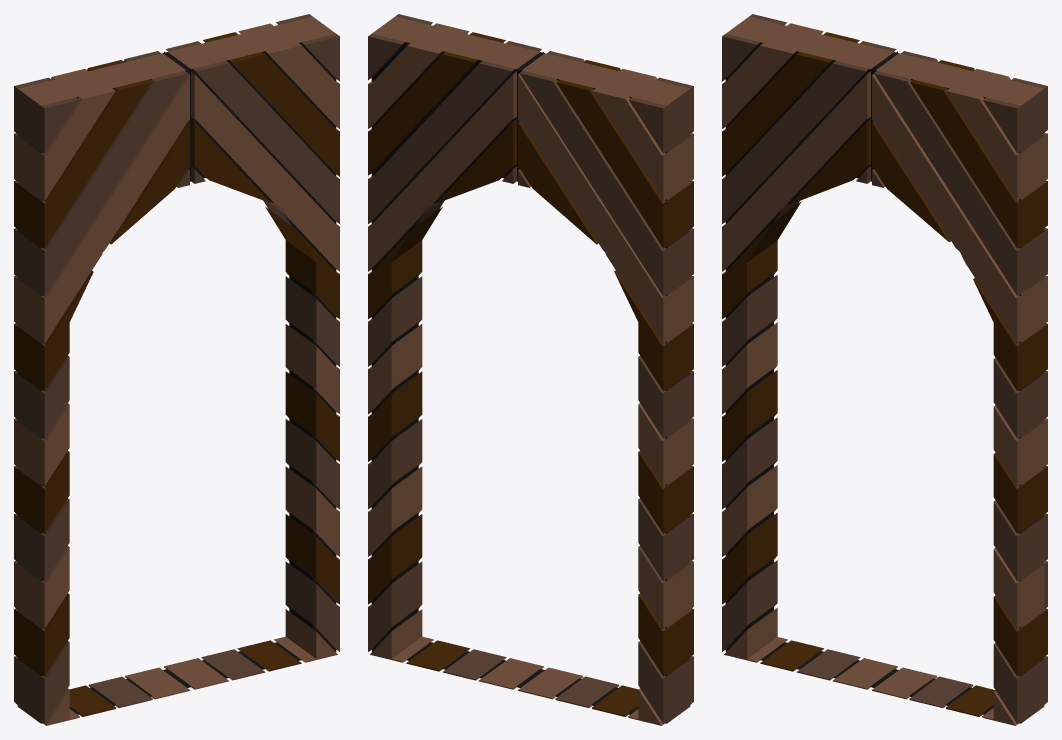
The model's file is ArrowBoardDoorframe.glb.
3 renders of one model, left to right at view 1: azimuth 30°, elevation 25°; view 2: azimuth 150°, elevation 25°; view 3: azimuth 330°, elevation 25°, orthographic.
Visible parts, largest first — view 1: wall_arrowBoard_door; view 2: wall_arrowBoard_door; view 3: wall_arrowBoard_door.
Boxes of the visible parts, x1,y1,x2,y2 form: wall_arrowBoard_door: (14,14,339,725); wall_arrowBoard_door: (368,14,693,725); wall_arrowBoard_door: (722,14,1047,725).
Size of what is drawn, in the model's own units: 2 by 4 by 0.358.
1 material, 1 textured.
